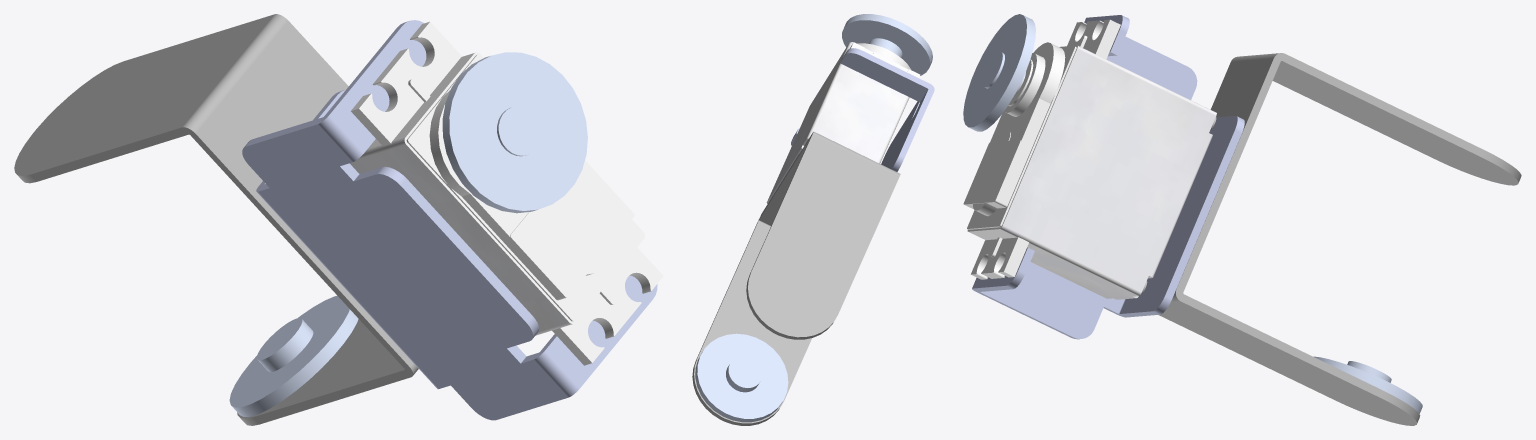
The model's file is r_forearmA_link.dae.
3 views of the same model, side by side, from view 1: azimuth 30°, elevation 25°; view 2: azimuth 150°, elevation 25°; view 3: azimuth 270°, elevation 25° (orthographic). The views are drawn at different scales.
Parts seen in each view (by area): view 1: Actor0; view 2: Actor0; view 3: Actor0.
Boxes of the visible parts, bbox=[...] form: Actor0: bbox=[14, 14, 663, 425]; Actor0: bbox=[692, 14, 934, 425]; Actor0: bbox=[963, 14, 1521, 425].
Size of the model in its own units: 0.0604 by 0.0862 by 0.1071.
Materials: 7 (2 with a texture image).
